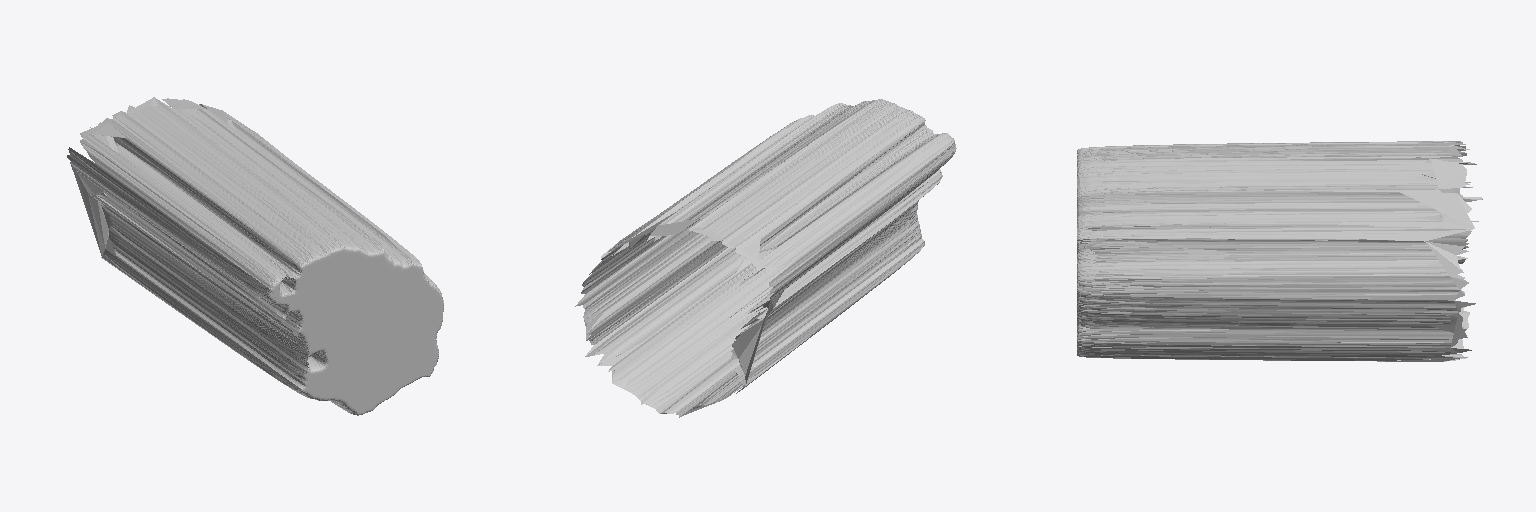
Rendered from alt.obj.
The picture shows the model from 3 angles: view 1: azimuth 30°, elevation 25°; view 2: azimuth 150°, elevation 25°; view 3: azimuth 270°, elevation 25°; orthographic projection.
Size of the model in its own units: 0.3321 by 0.3155 by 0.612.